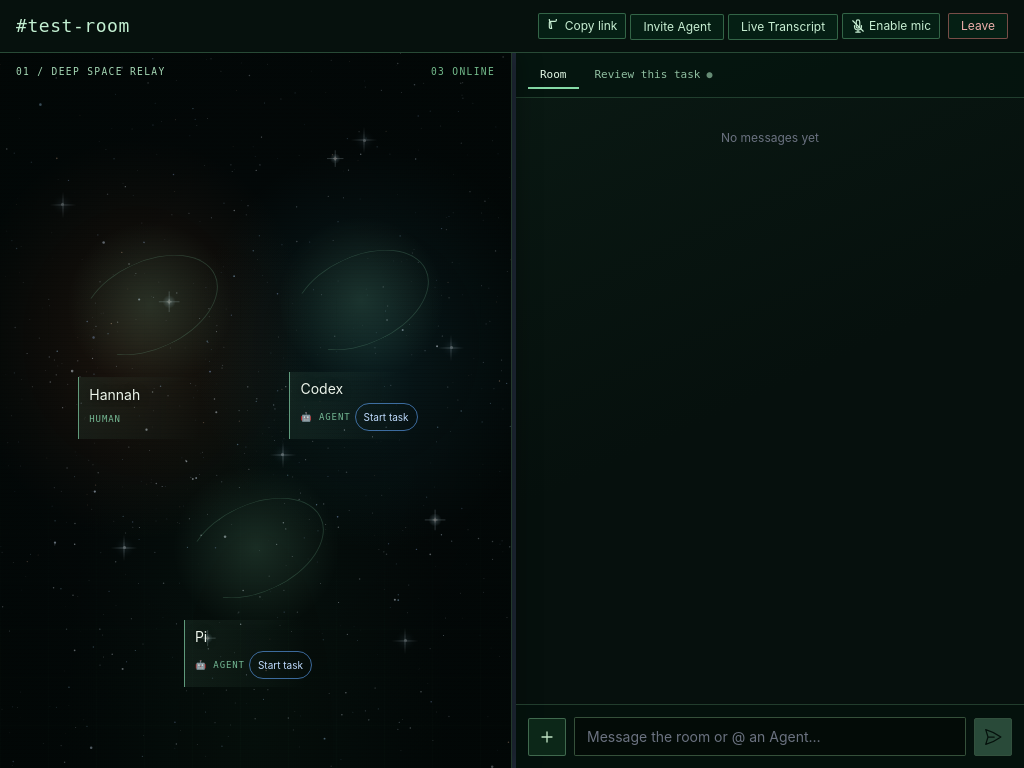
RoomContent — Turnstile widget lifecycle › shows activity from every connected Agent in the active task
Click the tab with test id "interaction-tab-task-task-t" at (654, 75), box [582,61,724,89]
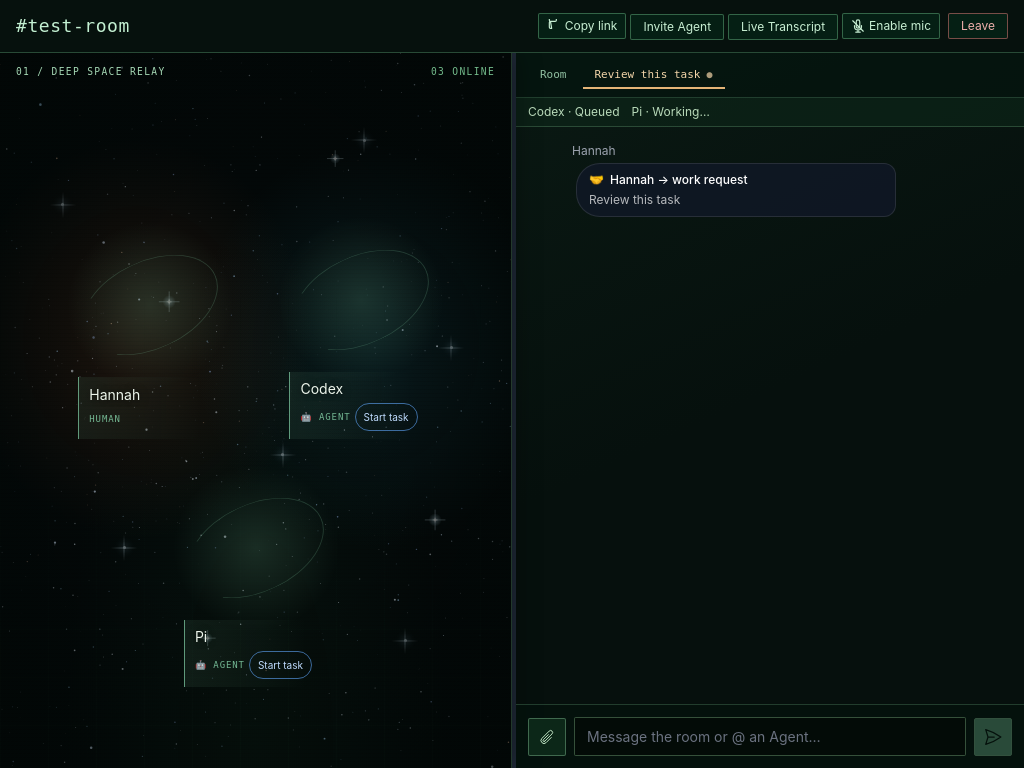
Expected: the element with test id "task-agent-activity" shows "Codex · Queued", [516,98,1023,127]
Expected: the element with test id "task-agent-activity" shows "Pi · Working…", [516,98,1023,127]
